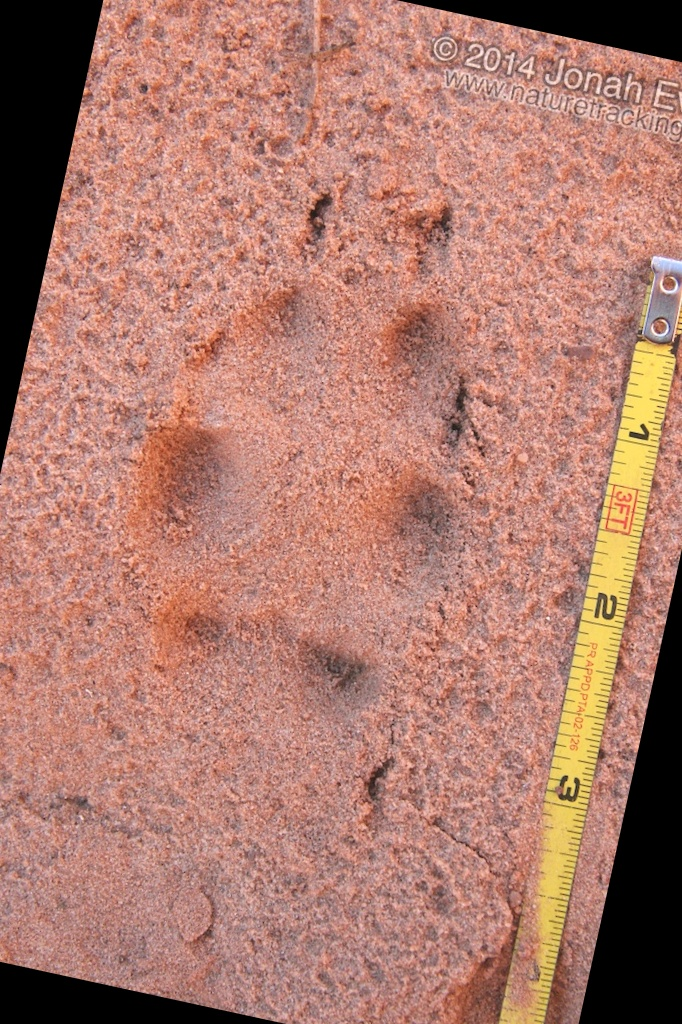fox: (43, 115, 567, 791)
